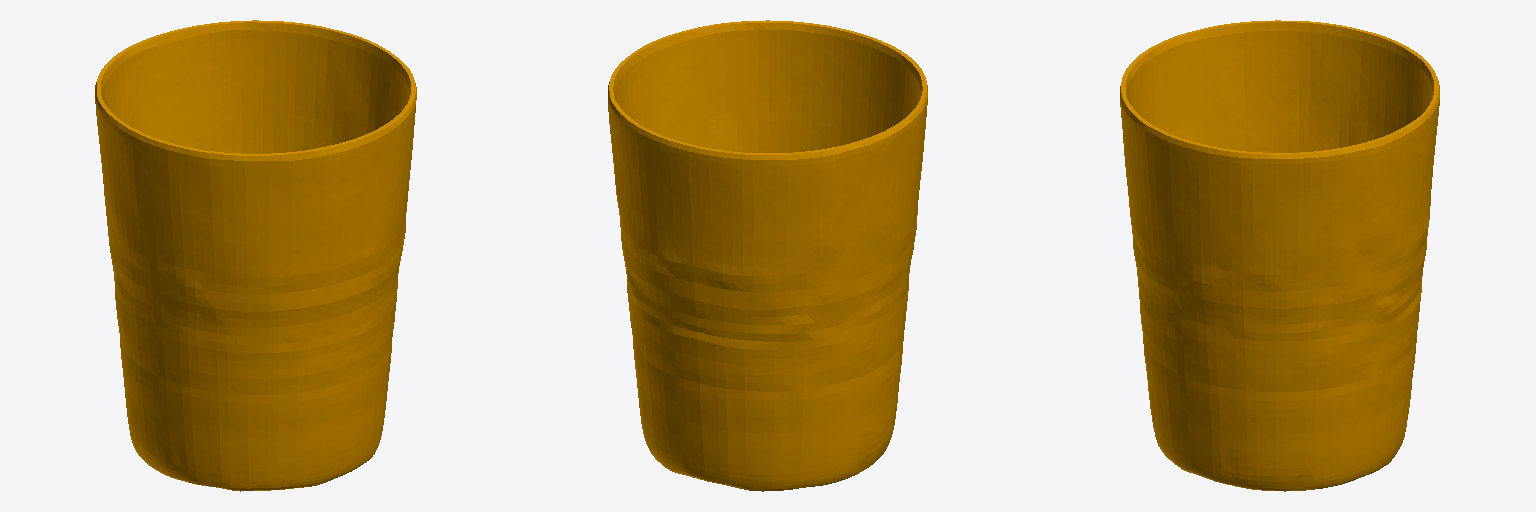
The robot description file, URDF, robot "cup":
<?xml version="1.0"?>
<robot name="cup">
  <link name="cup">
    <visual>
      <origin xyz="0 0 0" rpy="0 0 0"/>
      <geometry>
        <mesh filename="cup.obj" scale="1 1 1"/>
      </geometry>
    </visual>
    <collision>
      <origin xyz="0 0 0" rpy="0 0 0"/>
      <geometry>
        <mesh filename="cup.obj" scale="1 1 1"/>
      </geometry>
    </collision>
    <inertial>
      <origin xyz="0 0 0" rpy="0 0 0"/>
      <mass value="0.04000000"/>
      <inertia ixx="0.0000339333" ixy="0" ixz="0" iyy="0.0000339333" iyz="0" izz="0.0000273067"/>
    </inertial>
  </link>
</robot>

--- Render facts (derived) ---
The picture shows the robot from 3 angles, left to right: view 1: azimuth 30°, elevation 25°; view 2: azimuth 150°, elevation 25°; view 3: azimuth 270°, elevation 25°; orthographic projection.
Robot: cup — 1 links, 0 joints (none); root link cup; default pose: all joints at 0.
Visible links, largest first — view 1: cup; view 2: cup; view 3: cup.
Boxes of the visible links, bbox=[...] form: cup: bbox=[95, 20, 416, 491]; cup: bbox=[608, 20, 927, 491]; cup: bbox=[1120, 20, 1439, 491].
Size in the robot's own frame: 0.064 by 0.064 by 0.078 metres.
Meshes: 1 distinct files referenced, 1 mesh visuals loaded (1 OBJ).
